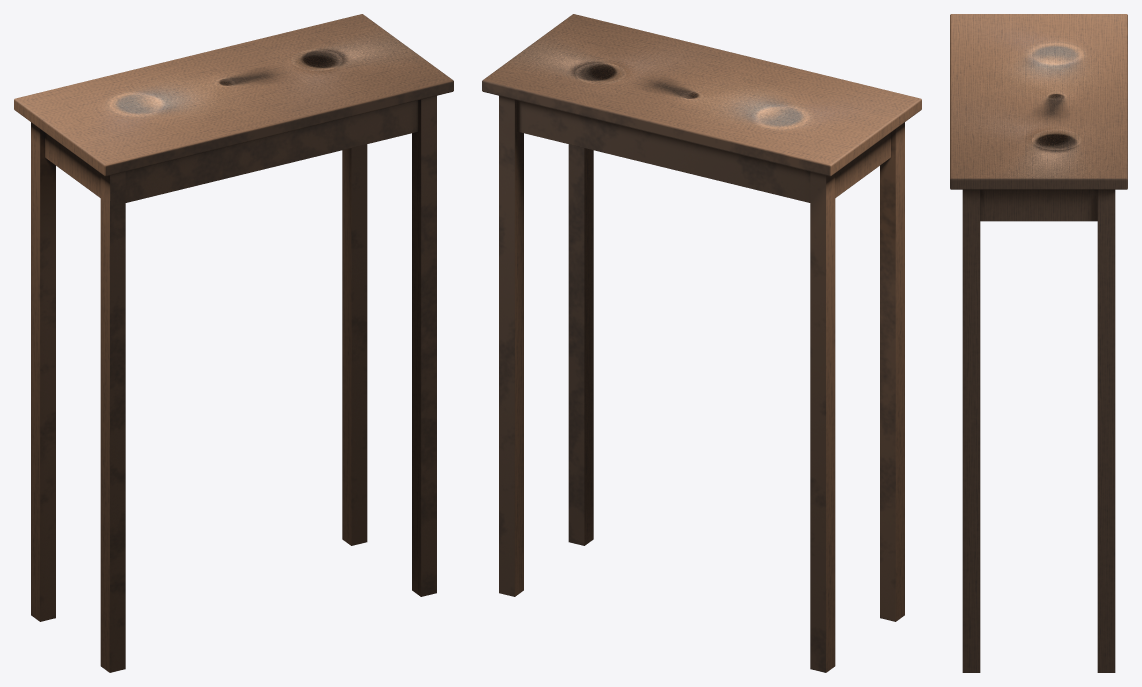
The model's file is 401_hook.glb.
3 renders of one model, left to right at view 1: azimuth 30°, elevation 25°; view 2: azimuth 150°, elevation 25°; view 3: azimuth 270°, elevation 25°, orthographic. The views are drawn at different scales.
Parts seen in each view (by area): view 1: Table; view 2: Table; view 3: Table.
Part boxes in pixels (left/top/right/bottom): Table: left=14, top=14, right=453, bottom=672; Table: left=482, top=14, right=921, bottom=672; Table: left=950, top=14, right=1127, bottom=672.
Size of what is drawn, in the model's own units: 2.2 by 3.1 by 1.
1 material, 1 textured.
